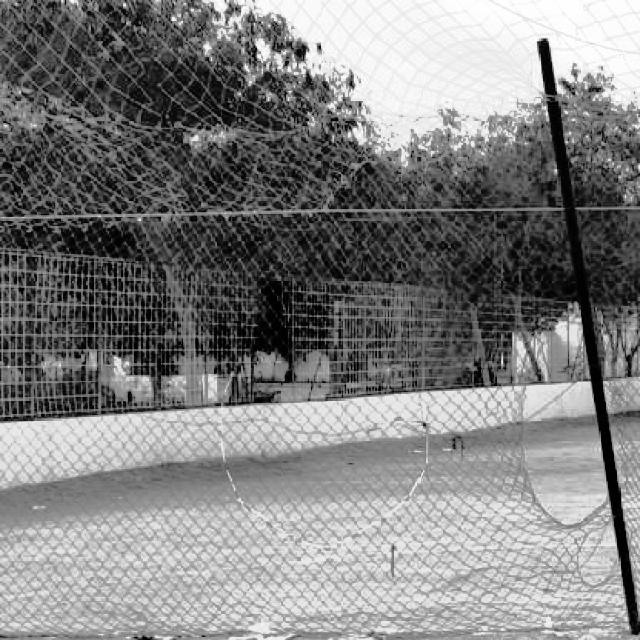anomaly-fence: (189, 298, 496, 571), (508, 288, 640, 562)
